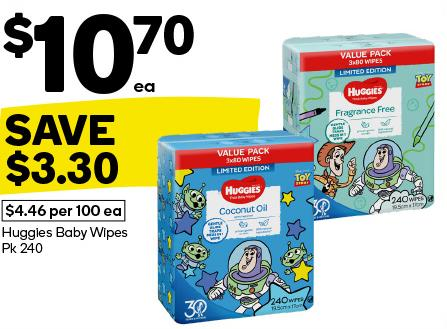description_block: (0, 224, 138, 260)
price_main: (1, 2, 197, 99)
product_image_block: (185, 32, 441, 326)
promo_text_block: (0, 103, 168, 194)
unit_price_block: (1, 198, 133, 225)
